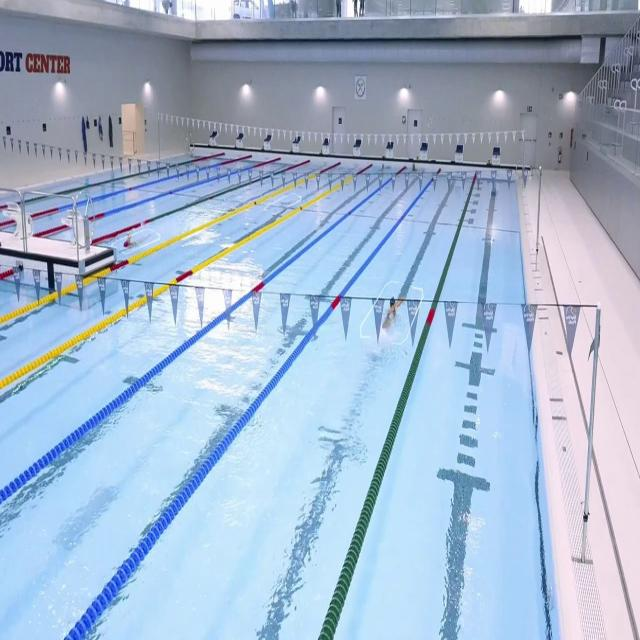Swimming: (382, 296, 405, 329), (124, 235, 150, 246)
